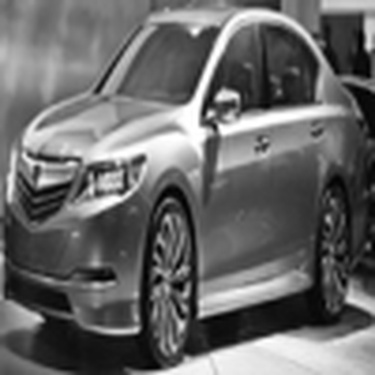car: (1, 5, 371, 374)
